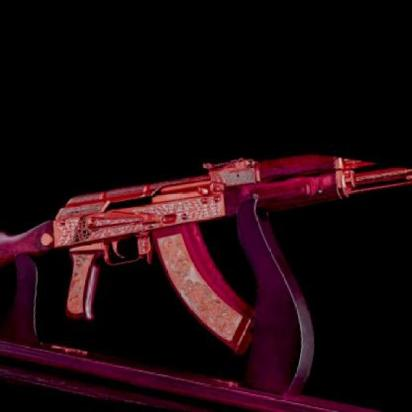Gun: (0, 116, 383, 412)
